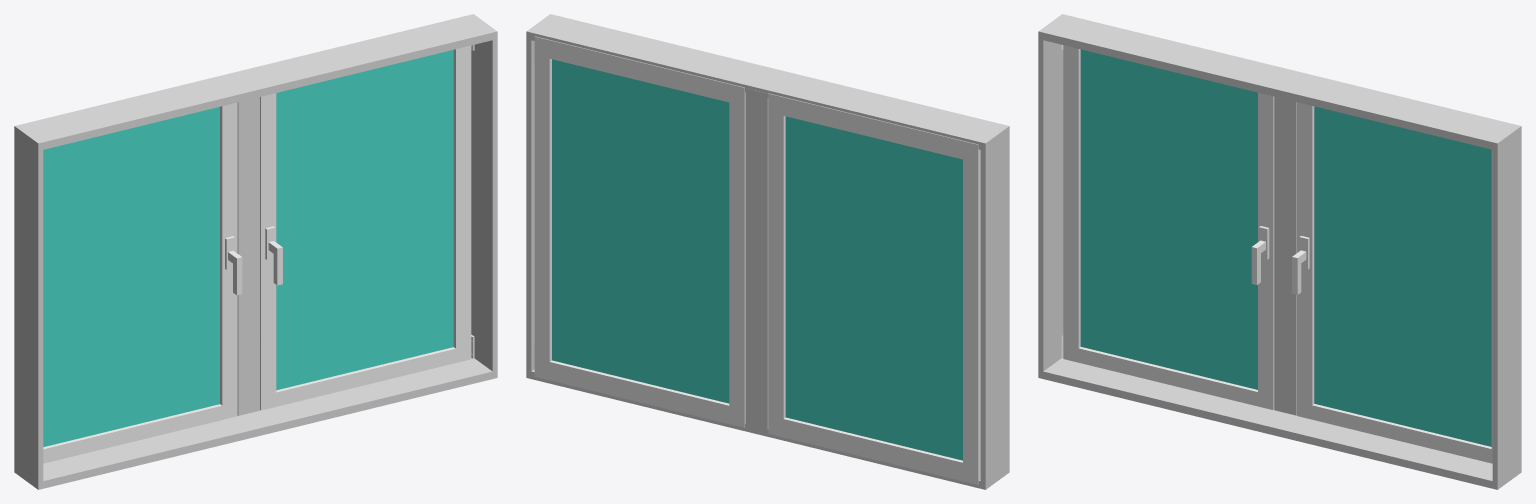
Rendered from window.fbx.
The picture shows the model from 3 angles, left to right: view 1: azimuth 30°, elevation 25°; view 2: azimuth 150°, elevation 25°; view 3: azimuth 330°, elevation 25°; orthographic projection.
Parts seen in each view (by area): view 1: Cube.102, Cube.070, Cube.011; view 2: Cube.102, Cube.070, Cube.011; view 3: Cube.102, Cube.070, Cube.011.
Boxes of the visible parts, x1,y1,x2,y2 form: Cube.102: [43, 44, 474, 463]; Cube.070: [14, 14, 497, 489]; Cube.011: [237, 97, 259, 415]; Cube.102: [534, 36, 980, 484]; Cube.070: [526, 14, 1009, 489]; Cube.011: [745, 88, 768, 432]; Cube.102: [1061, 45, 1492, 463]; Cube.070: [1038, 14, 1521, 489]; Cube.011: [1274, 96, 1296, 415].
Bounding box in the file's own units: 189 × 136 × 17.24.
